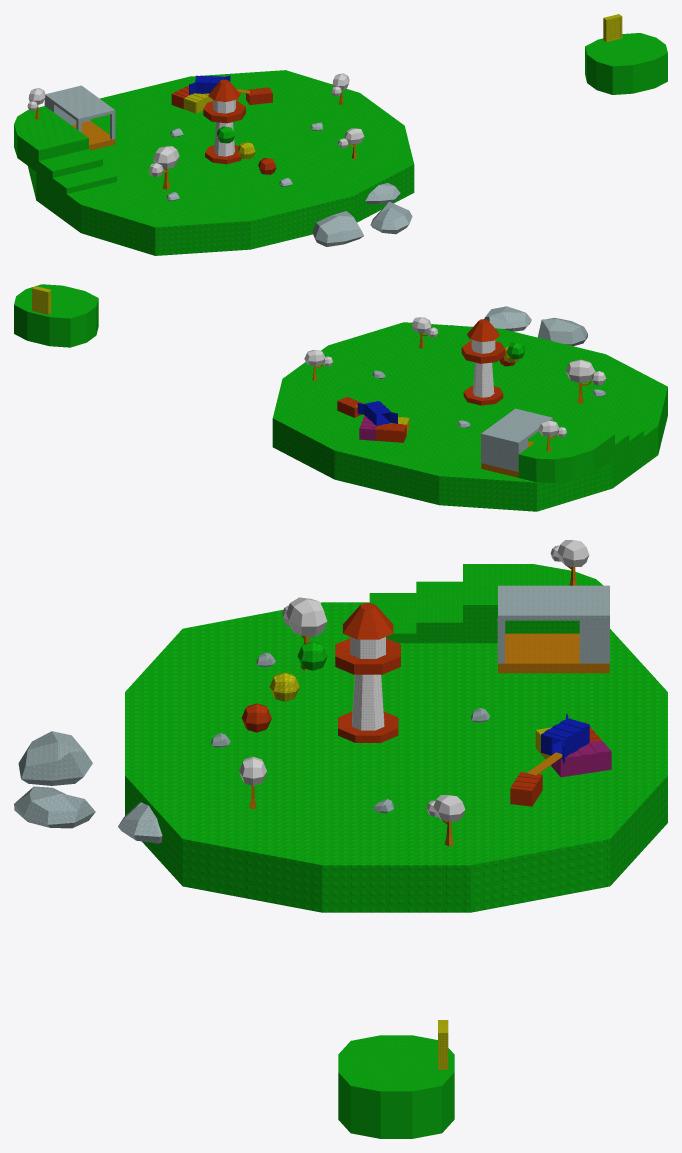
The model's file is mapGame.fbx.
3 renders of one model, top to bottom at view 1: azimuth 30°, elevation 25°; view 2: azimuth 150°, elevation 25°; view 3: azimuth 270°, elevation 25°, orthographic. The views are drawn at different scales.
Visible parts, largest first — view 1: Cube, Cube.009, Cube.045, Cube.044, Cube.017, Cube.002, Cube.015, Cube.003, Cube.019, Cube.018, Cube.046, Cube.029 (+3 smaller); view 2: Cube, Cube.009, Cube.045, Cube.044, Cube.017, Cube.002, Cube.015, Cube.019, Cube.029, Cube.010, Cube.046, Cube.007 (+4 smaller); view 3: Cube, Cube.045, Cube.009, Cube.044, Cube.017, Cube.002, Cube.015, Cube.003, Cube.029, Cube.023, Cube.019, Cube.018 (+3 smaller).
Part boxes in pixels (<box>): Cube: <box>28,70,414,255</box>; Cube.009: <box>14,106,116,193</box>; Cube.045: <box>585,33,667,94</box>; Cube.044: <box>44,85,115,150</box>; Cube.017: <box>203,79,245,164</box>; Cube.002: <box>312,211,363,246</box>; Cube.015: <box>370,201,412,234</box>; Cube.003: <box>217,126,276,174</box>; Cube.019: <box>148,146,179,189</box>; Cube.018: <box>365,183,400,204</box>; Cube.046: <box>603,14,622,42</box>; Cube.029: <box>189,75,230,94</box>; Cube: <box>272,322,667,511</box>; Cube.009: <box>518,418,643,482</box>; Cube.045: <box>14,284,98,347</box>; Cube.044: <box>481,408,552,477</box>; Cube.017: <box>461,319,505,405</box>; Cube.002: <box>537,317,587,346</box>; Cube.015: <box>484,306,531,331</box>; Cube.019: <box>565,359,606,403</box>; Cube.029: <box>357,401,397,425</box>; Cube.010: <box>375,423,406,442</box>; Cube.046: <box>32,286,51,314</box>; Cube.007: <box>411,317,438,348</box>; Cube: <box>125,602,667,912</box>; Cube.045: <box>338,1035,454,1138</box>; Cube.009: <box>369,564,603,643</box>; Cube.044: <box>497,585,609,673</box>; Cube.017: <box>335,603,400,742</box>; Cube.002: <box>18,731,92,785</box>; Cube.015: <box>14,786,95,828</box>; Cube.003: <box>241,641,327,732</box>; Cube.029: <box>541,713,589,763</box>; Cube.023: <box>551,740,611,777</box>; Cube.019: <box>282,597,327,670</box>; Cube.018: <box>118,802,162,843</box>.
Size of the model in its own units: 220 by 35.95 by 124.
